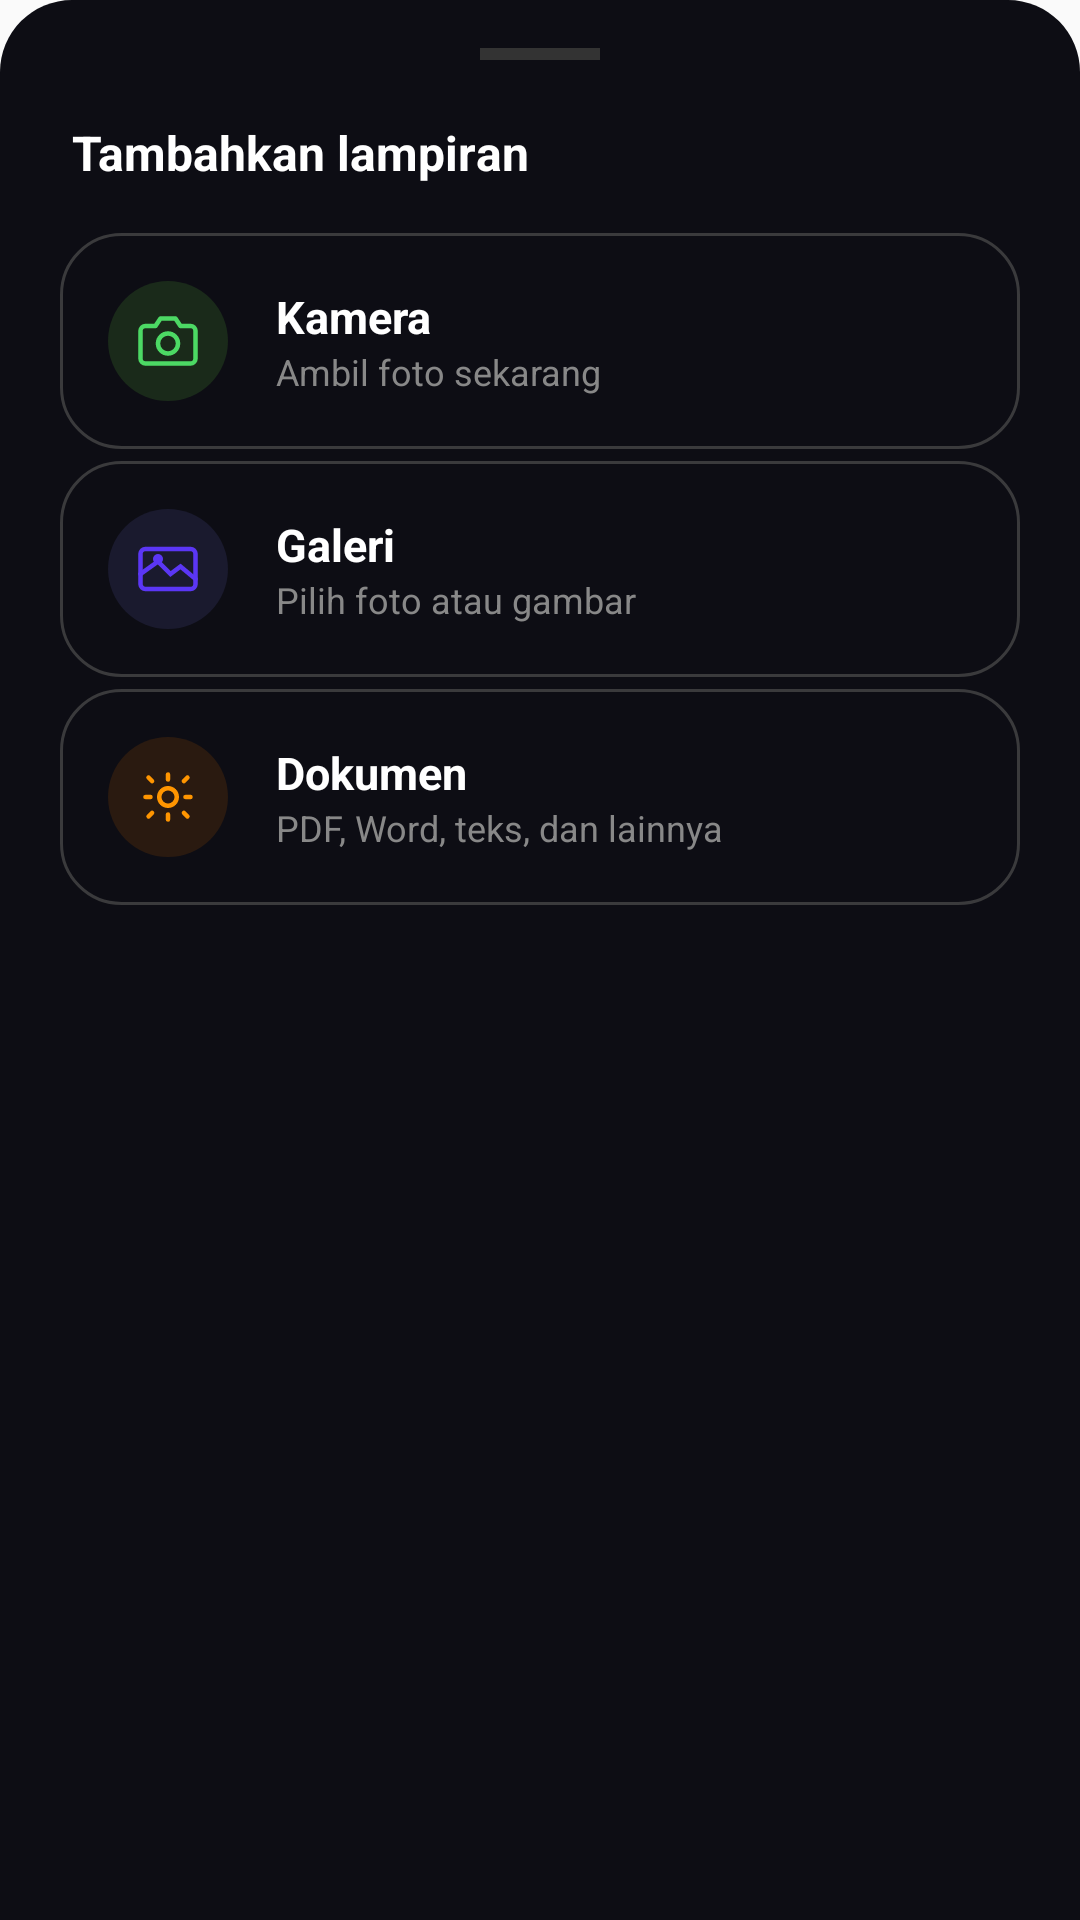

Icon click points for this 1080×1920 phone screenshot, format (x,y):
camera: (168,341)
